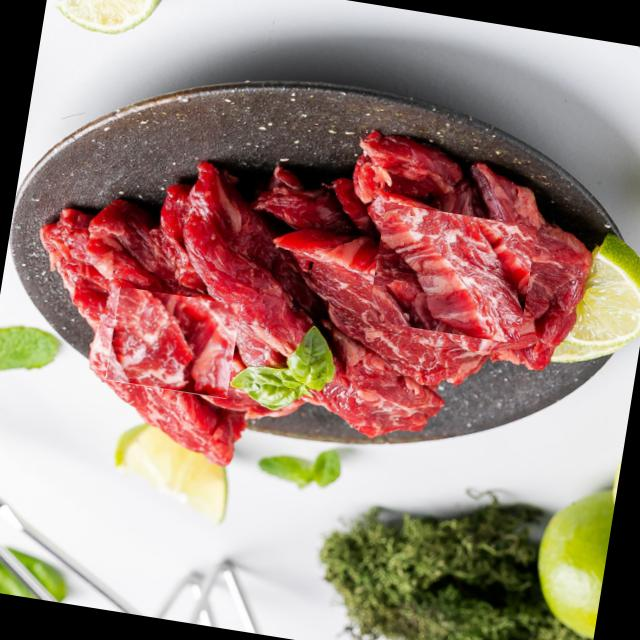beef: (367, 202, 538, 346), (105, 286, 241, 399)
